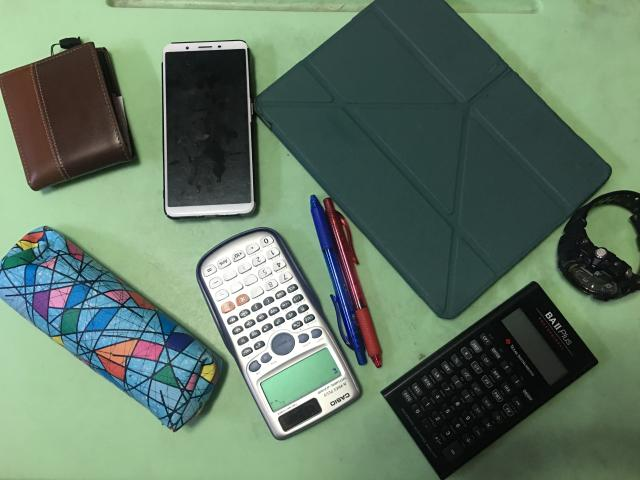Mobile phone: (162, 40, 255, 219)
Pen: (310, 195, 381, 368)
Wallet: (0, 38, 134, 190)
Watch: (558, 190, 640, 301)
